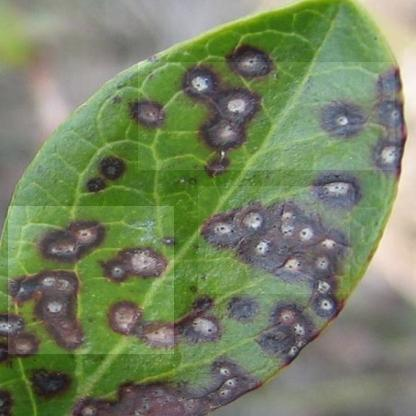black-spot: (138, 62, 395, 171), (8, 206, 174, 354), (198, 186, 350, 294)
